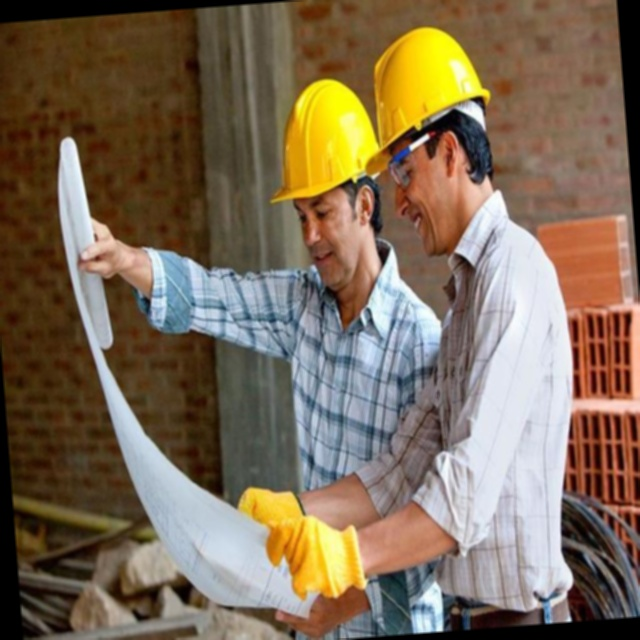goggles: (394, 139, 458, 200)
helmet: (373, 35, 513, 176), (273, 76, 390, 223)
